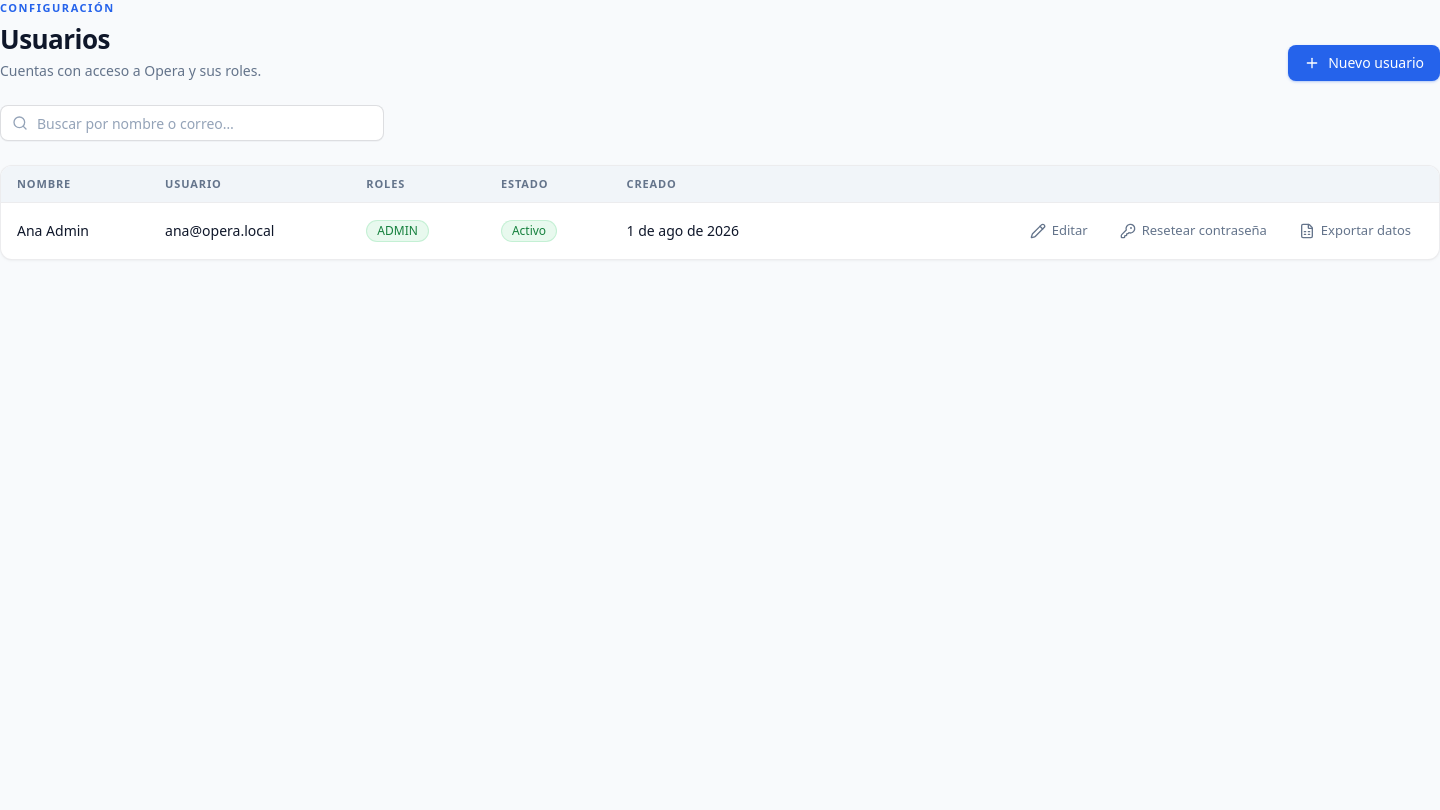
Test: UsersPage › closes the edit modal via its close button and resets which user is being edited
expect the text "Ana Admin" is shown: met, box [1, 202, 149, 259]
Click the button "Editar": (1059, 231) [1018, 215, 1100, 247]
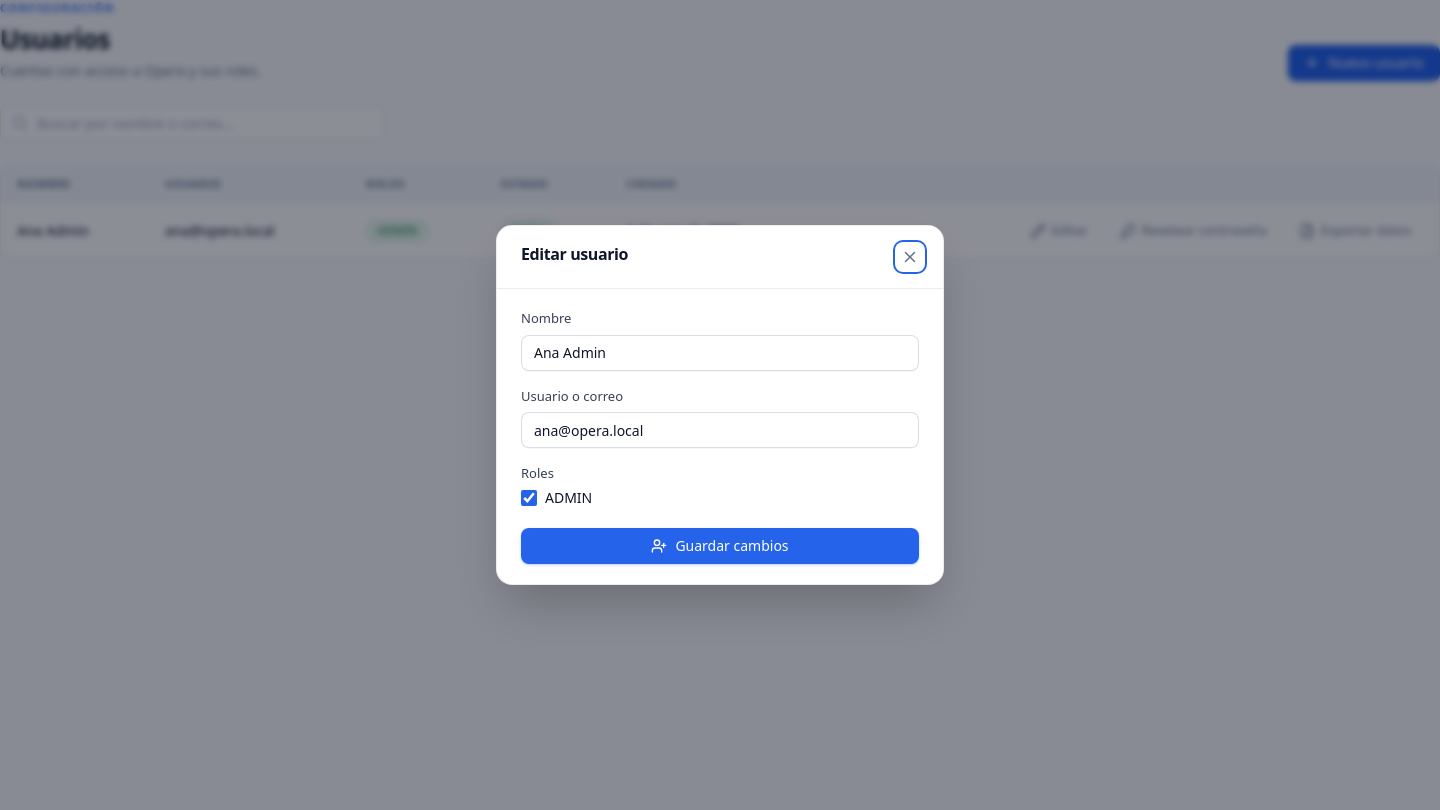
expect the dialog "Editar usuario" is shown: met, box [496, 225, 944, 585]
Click the button named "Cerrar": (910, 257) [895, 242, 925, 272]
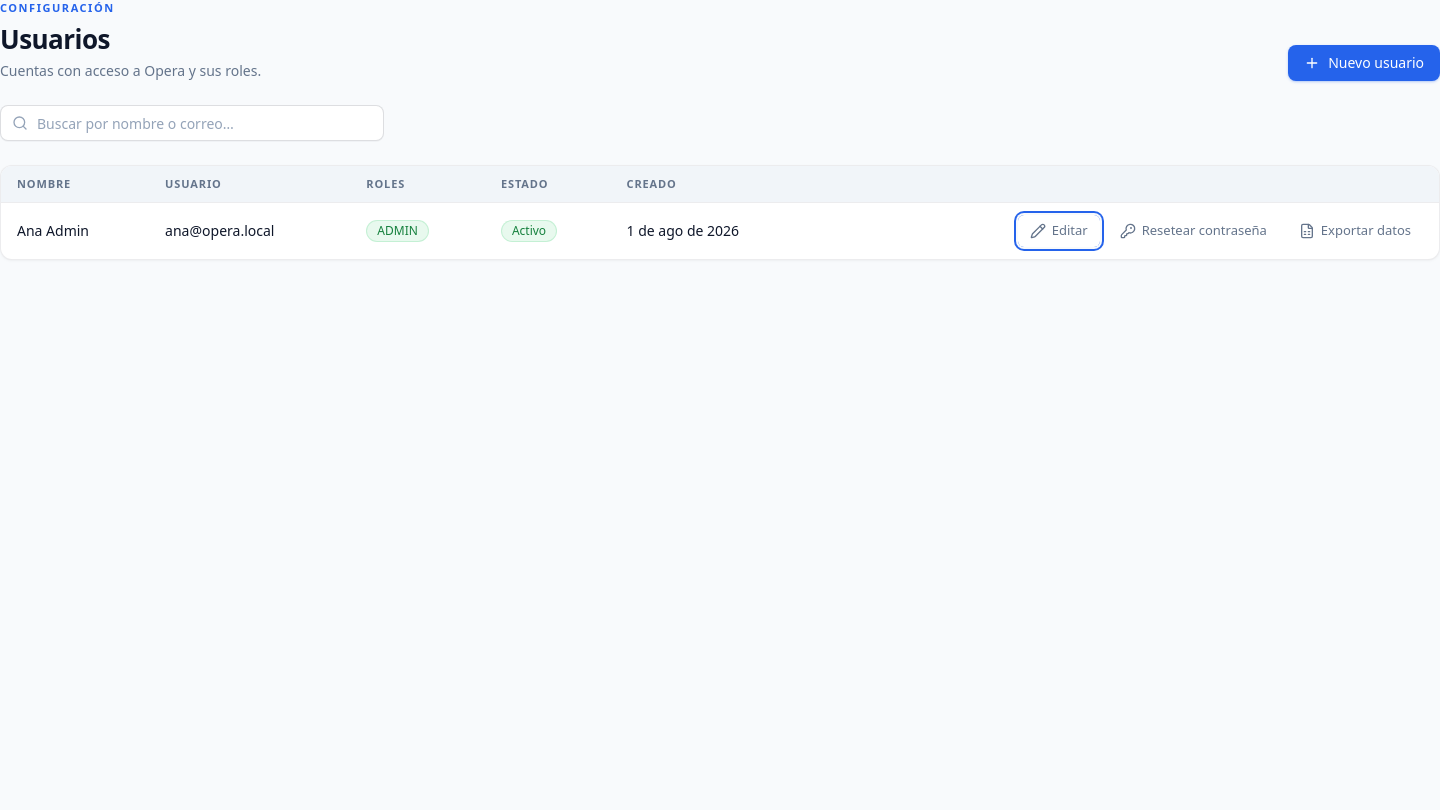
expect the heading "Editar usuario" is gone: met
